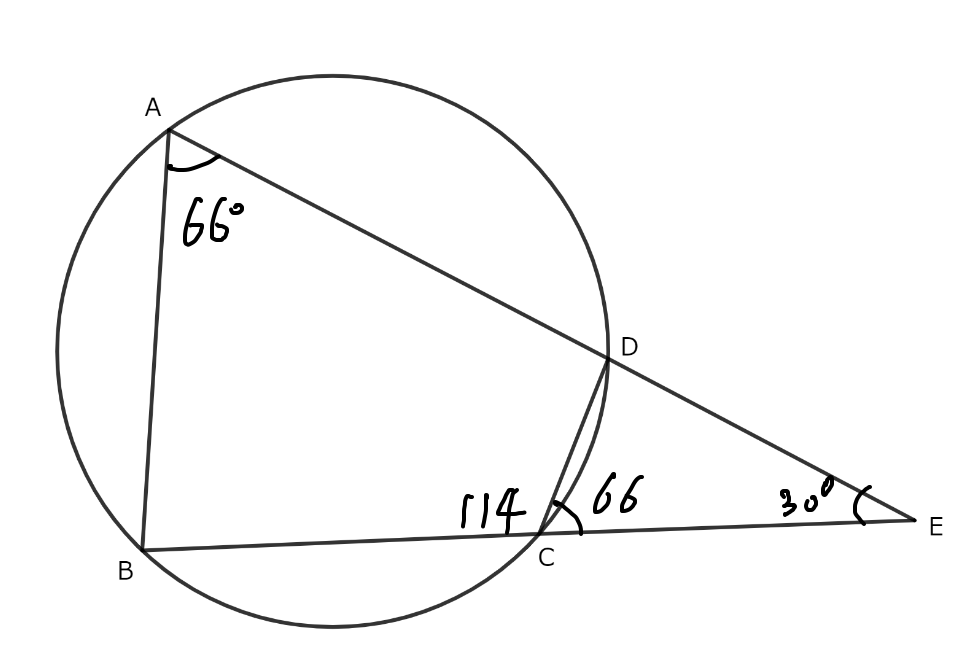Angle_Scurve: (844, 480, 879, 527), (163, 151, 222, 178), (546, 498, 584, 537)
